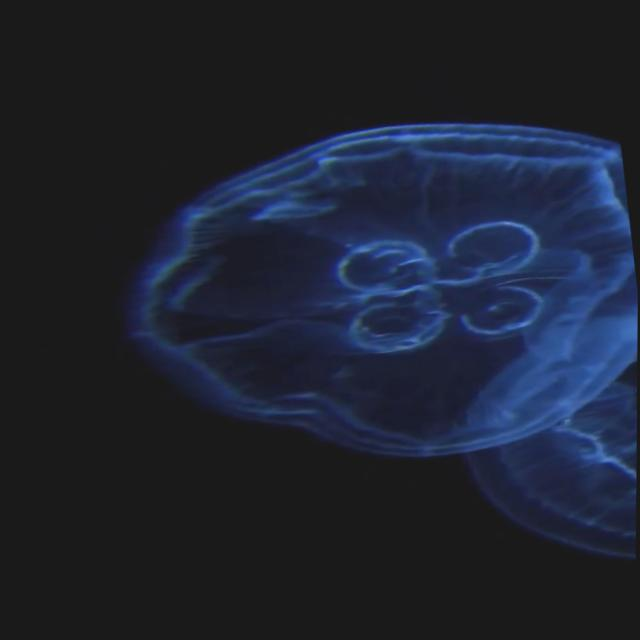Moon-jellyfish: (131, 126, 638, 554)
